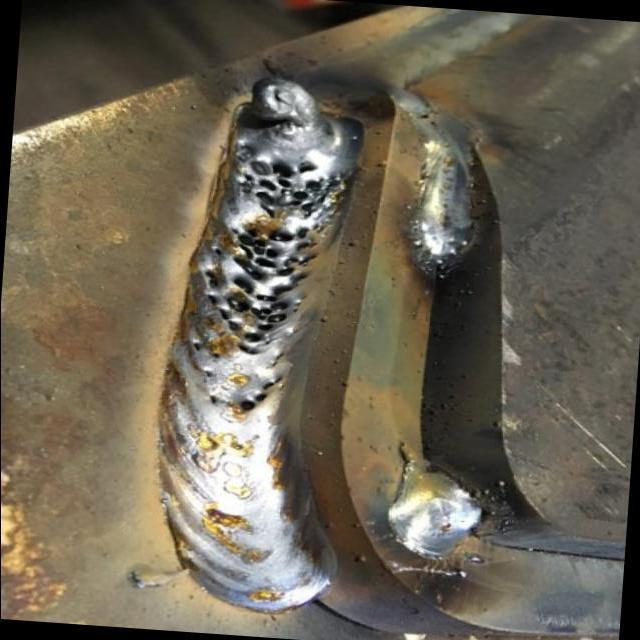defect: (199, 221, 323, 352), (236, 152, 344, 223), (231, 371, 293, 420), (267, 346, 290, 365), (201, 388, 222, 407), (187, 340, 203, 355), (210, 350, 225, 360), (202, 369, 214, 381)
